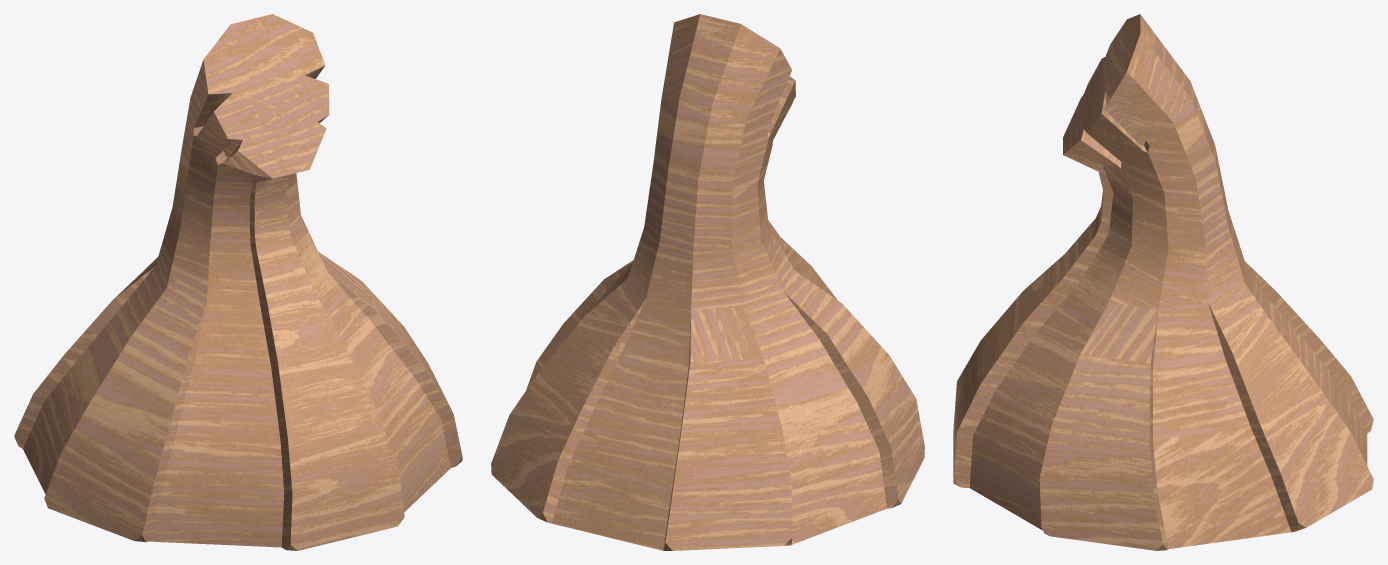
File: light-hallacirya-ship.glb
3 views of the same model, side by side, from view 1: azimuth 30°, elevation 25°; view 2: azimuth 150°, elevation 25°; view 3: azimuth 270°, elevation 25° (orthographic). The views are drawn at different scales.
Visible parts, largest first — view 1: Circle.001; view 2: Circle.001; view 3: Circle.001.
Part boxes in pixels (<box>): Circle.001: <box>14,14,462,550</box>; Circle.001: <box>491,14,924,550</box>; Circle.001: <box>953,14,1373,550</box>.
Size of the model in its own units: 2.18 by 2.4 by 2.09.
1 material, 1 textured.
